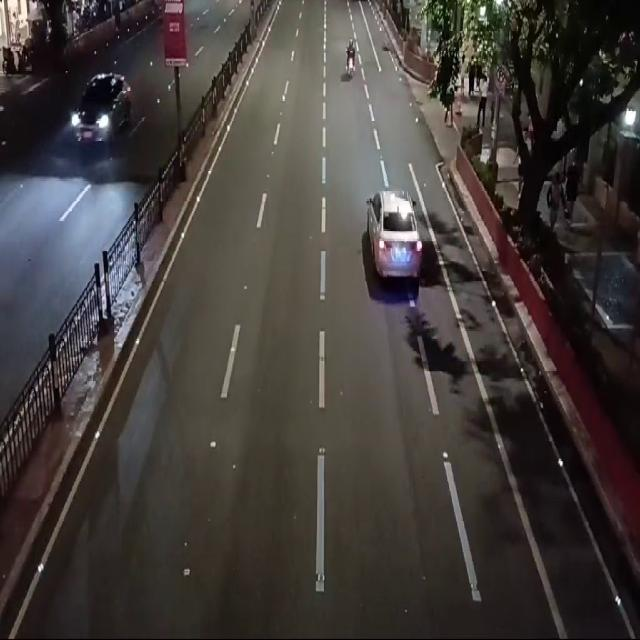car: (364, 169, 431, 288), (62, 59, 138, 160)
motorcycle: (344, 34, 357, 88)
